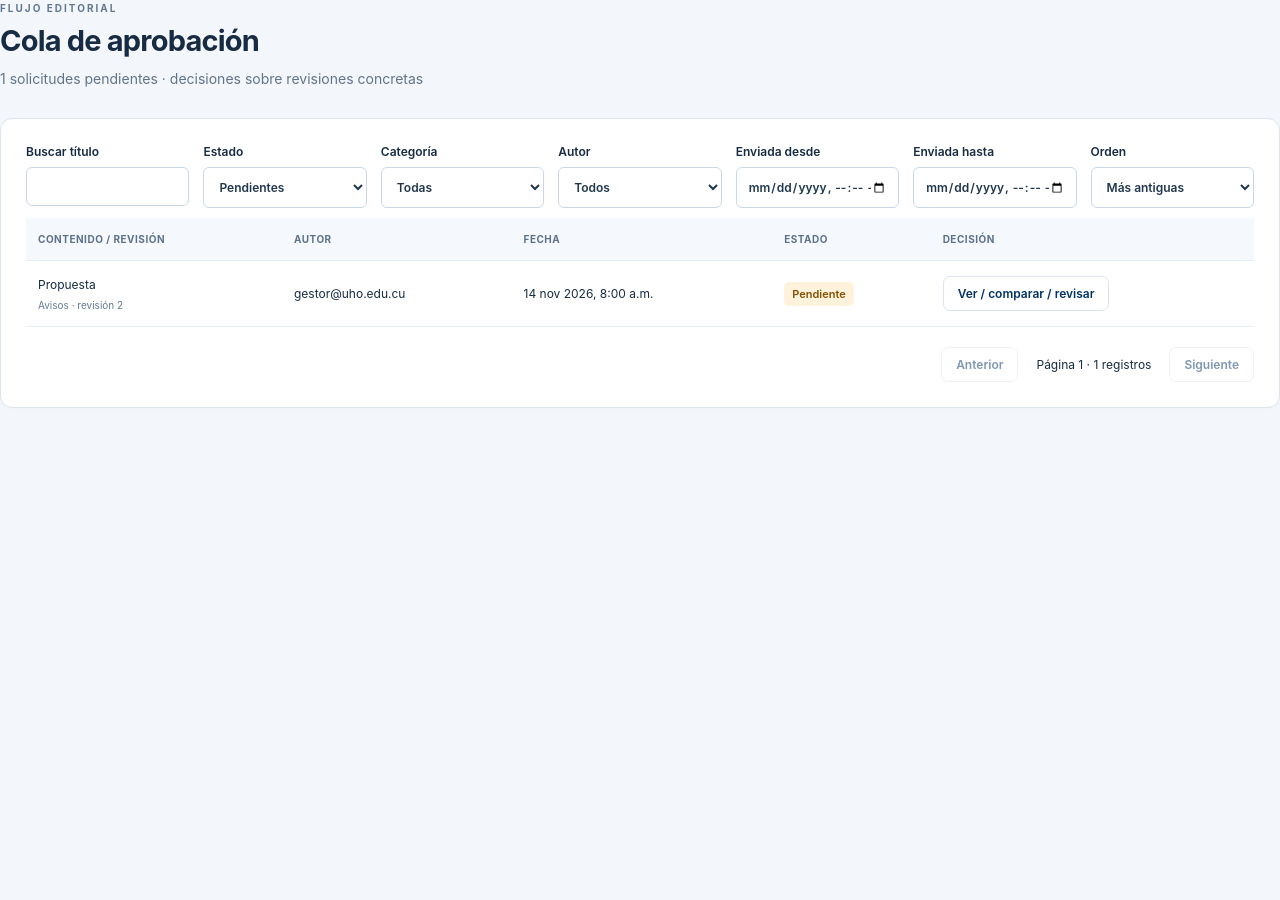
Test: la cola compara la aprobación anterior y rechaza con motivo por la API
Click the button "Ver / comparar / revisar" at {"x": 1026, "y": 294}, box [943,276,1109,311]
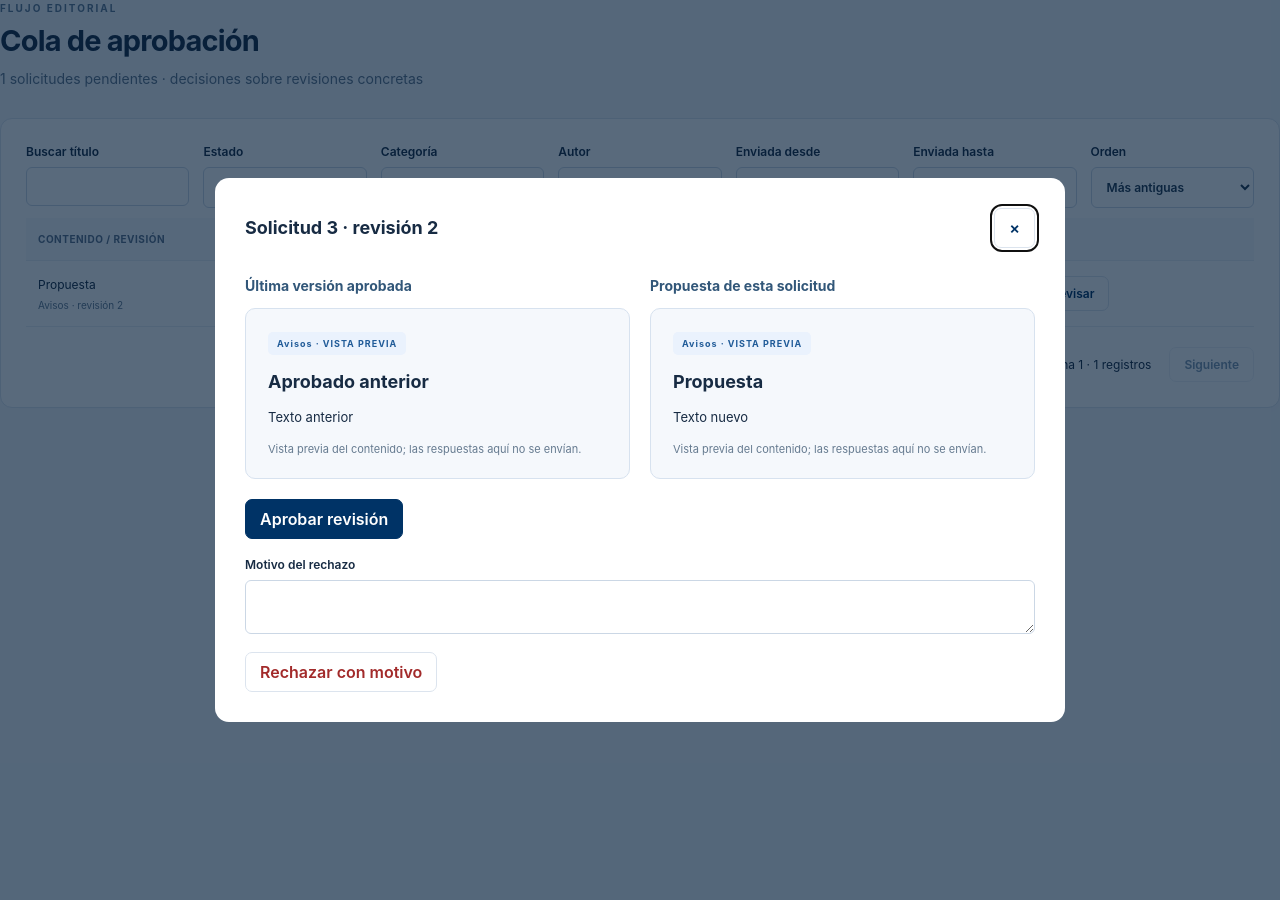
Now the heading "Aprobado anterior" is shown, box [268,371,429,392]
Now the text "Texto nuevo" is shown, box [673,409,748,425]
Type "Corregir la convocatoria." into the text box labelled "Motivo del rechazo" at {"x": 640, "y": 607}, box [245,580,1035,634]
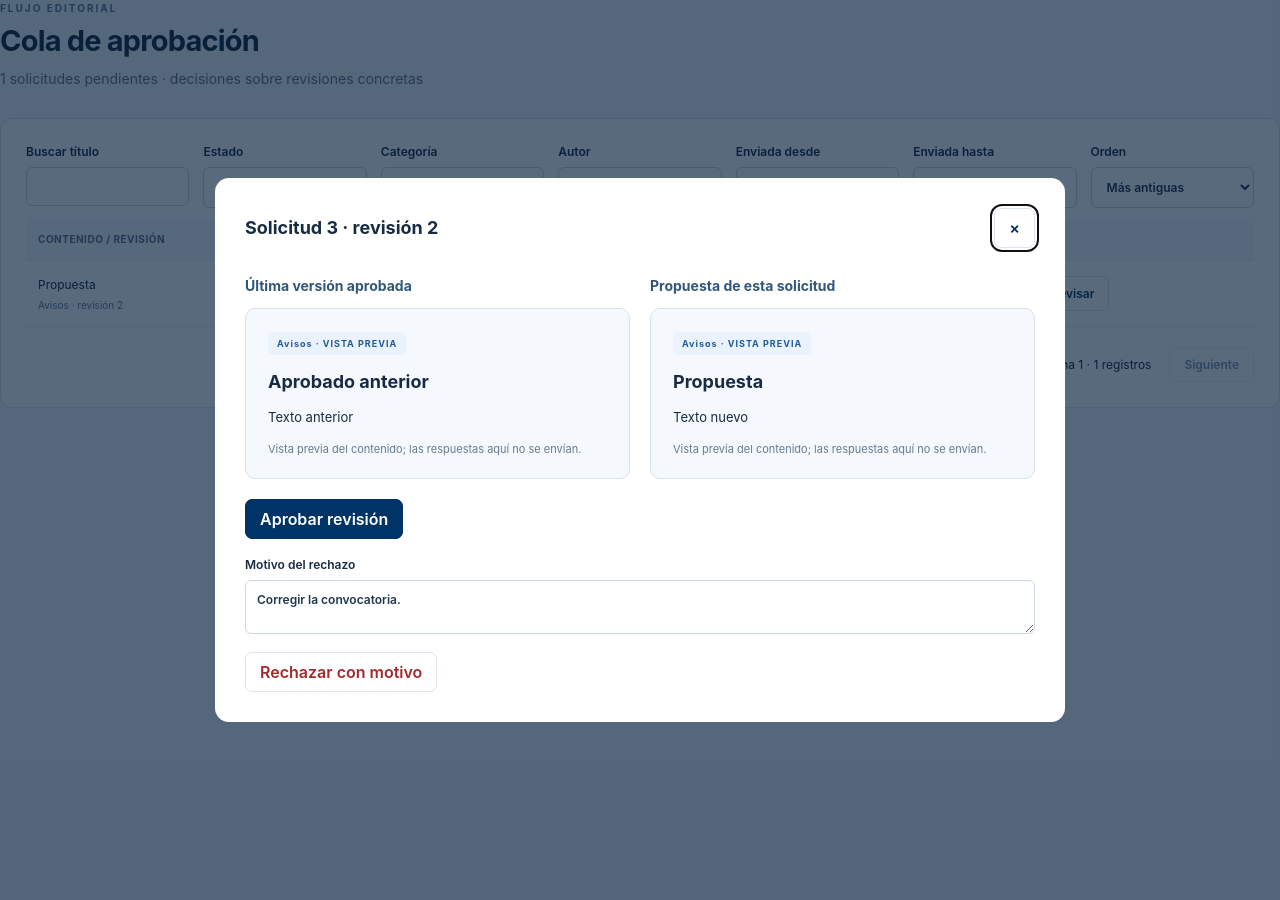
Submit the text "Rechazar con motivo", box [245,557,1035,692]
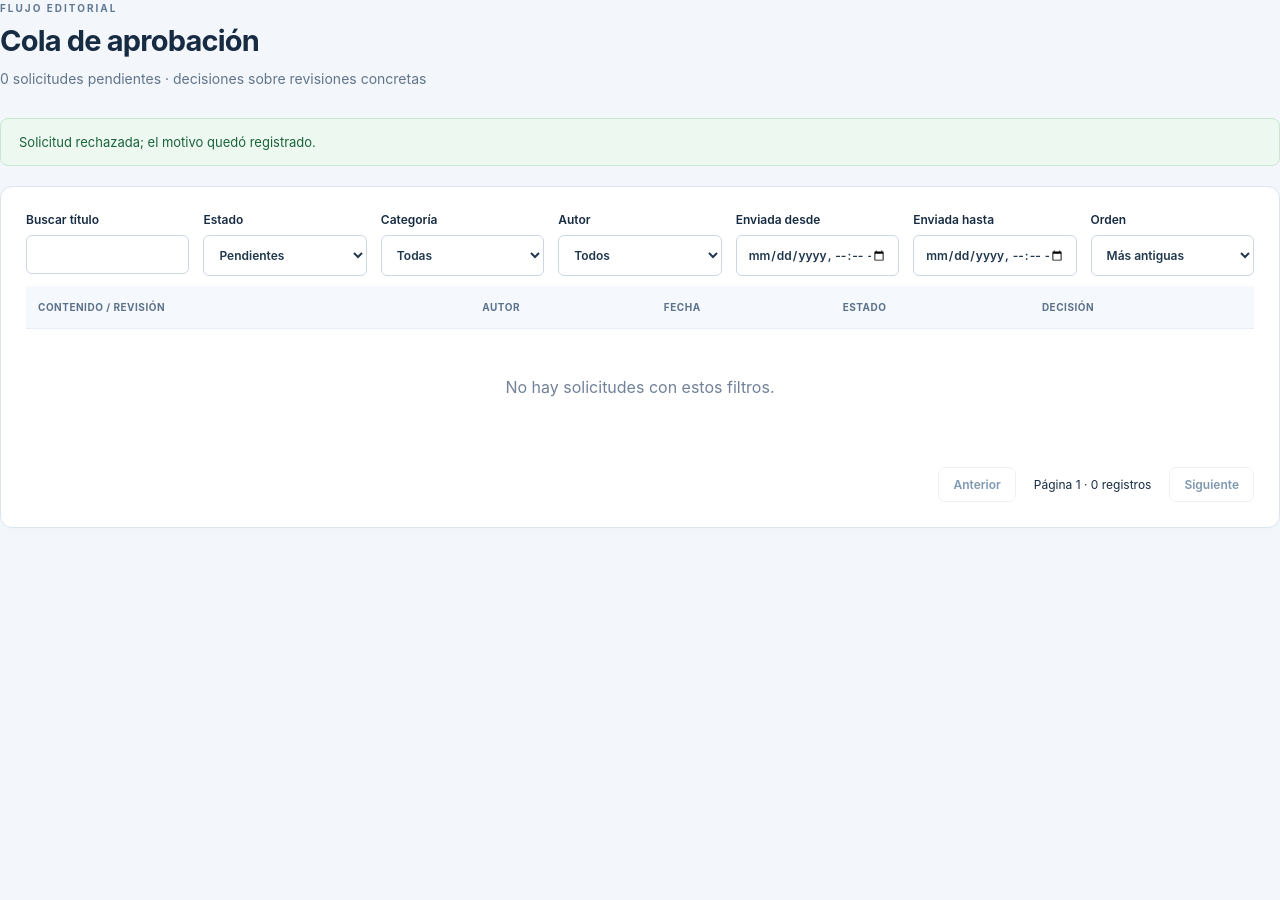
Now the text "Solicitud rechazada; el motivo quedó registrado." is shown, box [0,118,1279,166]
